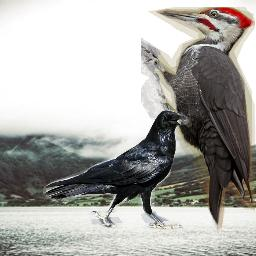Crow: (43, 110, 192, 230)
Woodpecker: (141, 7, 255, 232)
